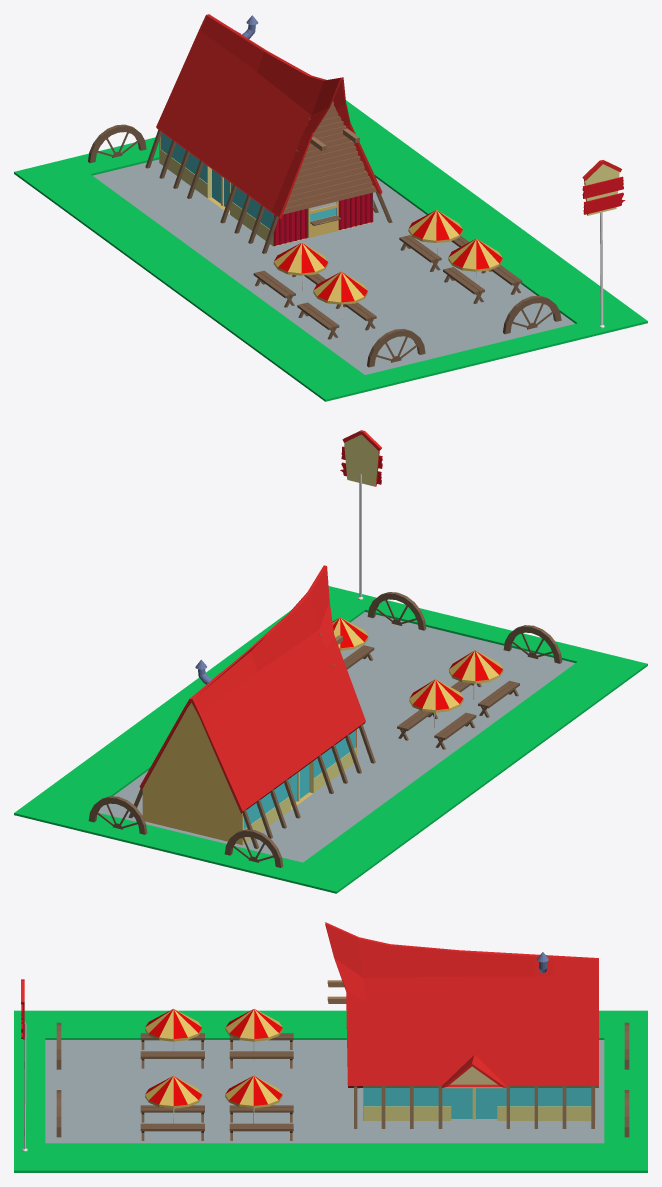
The model's file is uploads_files_889876_OLD-FOOD.fbx.
3 renders of one model, top to bottom at view 1: azimuth 30°, elevation 25°; view 2: azimuth 150°, elevation 25°; view 3: azimuth 270°, elevation 25°, orthographic.
Parts seen in each view (by area): view 1: Plane, Cube.001, Cube.002, Cube.013, Cube, Cube.007, Circle.003, Circle.008, Circle.009, Circle.006, Plane.002, Cube.005 (+8 smaller); view 2: Plane, Cube.001, Cube, Cube.013, Cube.007, Plane.001, Circle.008, Circle.009, Cube.006, Circle.002, Circle.001, Circle.013 (+3 smaller); view 3: Plane, Cube.001, Cube.013, Cube.007, Circle.003, Circle.009, Circle.008, Circle.006, Cube.008, Cube.009, Cube.005, Cube.006.
Part boxes in pixels (x1,y1,x2,y2): Plane: (14,100,647,401); Cube.001: (156,14,382,219); Cube.002: (283,101,376,214); Cube.013: (159,132,373,245); Cube: (208,193,373,246); Cube.007: (145,129,392,253); Circle.003: (448,238,502,271); Circle.008: (313,271,367,304); Circle.009: (273,242,328,275); Circle.006: (408,210,462,242); Plane.002: (582,176,625,214); Cube.005: (297,302,376,339); Plane: (14,586,647,893); Cube.001: (139,565,365,813); Cube: (142,702,356,844); Cube.013: (242,730,356,844); Cube.007: (128,724,375,848); Plane.001: (342,430,381,486); Circle.008: (448,650,503,683); Circle.009: (409,679,463,712); Cube.006: (397,710,476,749); Circle.002: (503,625,562,663); Circle.001: (367,592,426,630); Circle.013: (224,829,283,867); Plane: (14,1010,647,1172); Cube.001: (325,922,598,1088); Cube.013: (363,1088,595,1120); Cube.007: (354,1086,594,1128); Circle.003: (145,1076,202,1108); Circle.009: (225,1009,282,1041); Circle.008: (145,1009,202,1041); Circle.006: (225,1075,282,1108); Cube.008: (140,1105,204,1140); Cube.009: (229,1105,293,1140); Cube.005: (140,1033,204,1068); Cube.006: (229,1033,293,1068).
Bounding box in the file's own units: 646 × 328 × 1080.
